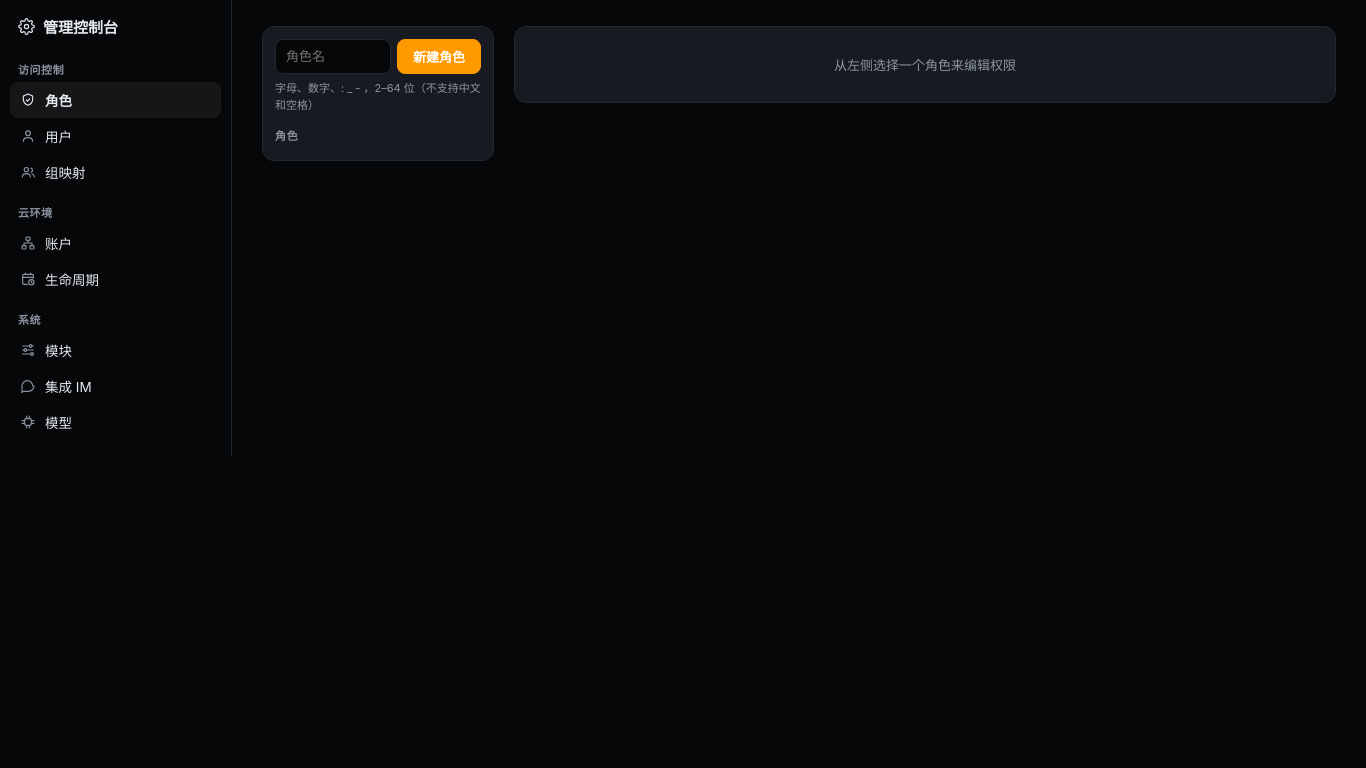
Test: 管理 → 模型（方案 A） › 首屏：当前生效条、三行来源、「当前使用」在已保存的第一来源，没有保存条
Click the button "模型" at x=116, y=422, box x1=10 y1=404 x2=221 y2=440
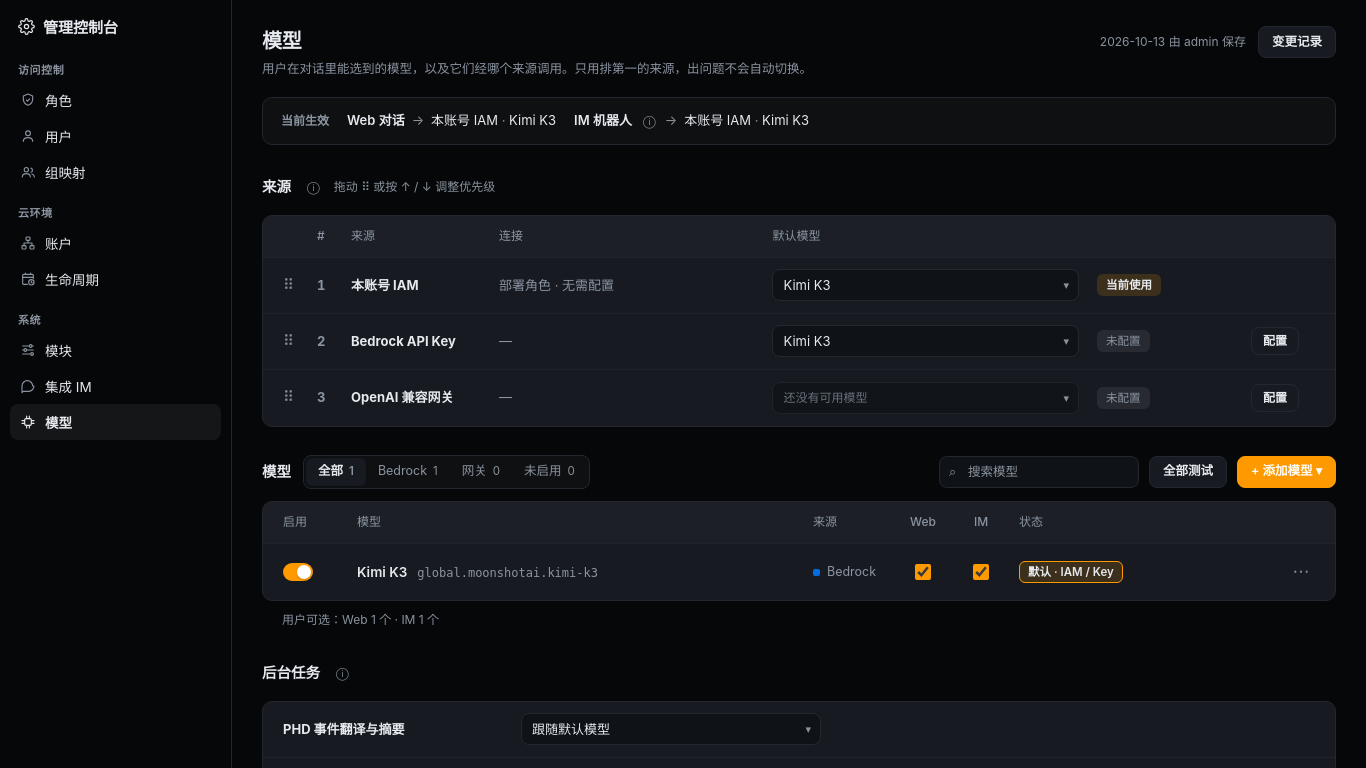
Expected: the list "来源" is shown, x1=262 y1=215 x2=1336 y2=427
Expected: the number of list items is 3, x1=263 y1=258 x2=1335 y2=314; x1=263 y1=314 x2=1335 y2=370; x1=283 y1=382 x2=1299 y2=414
Expected: the list item "⠿ 1 本账号 IAM 部署角色 · 无需配置 当前使用" is shown, x1=263 y1=258 x2=1335 y2=314
